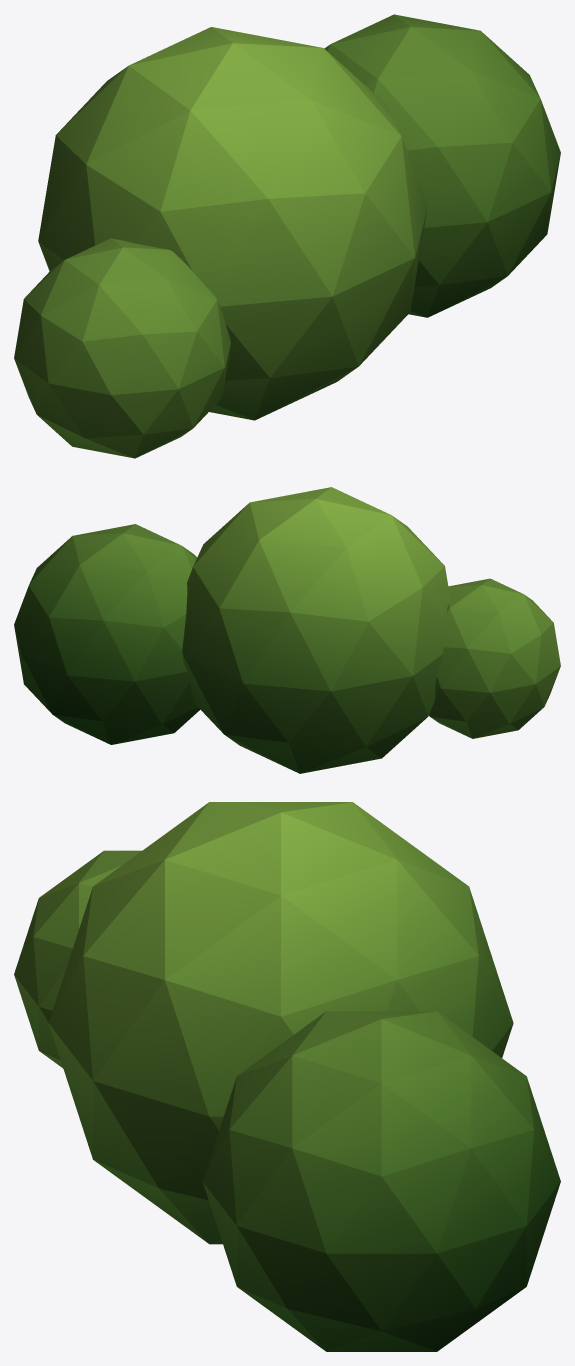
File: Arbusto1.fbx
3 renders of one model, top to bottom at view 1: azimuth 30°, elevation 25°; view 2: azimuth 150°, elevation 25°; view 3: azimuth 270°, elevation 25°, orthographic. The views are drawn at different scales.
Parts seen in each view (by area): view 1: Icosphere; view 2: Icosphere; view 3: Icosphere.
Part boxes in pixels (x1,y1,x2,y2): Icosphere: [14, 14, 560, 458]; Icosphere: [14, 487, 560, 773]; Icosphere: [14, 802, 560, 1351].
Size of the model in its own units: 576 by 863 by 490.
Materials: 1 (1 with a texture image).
